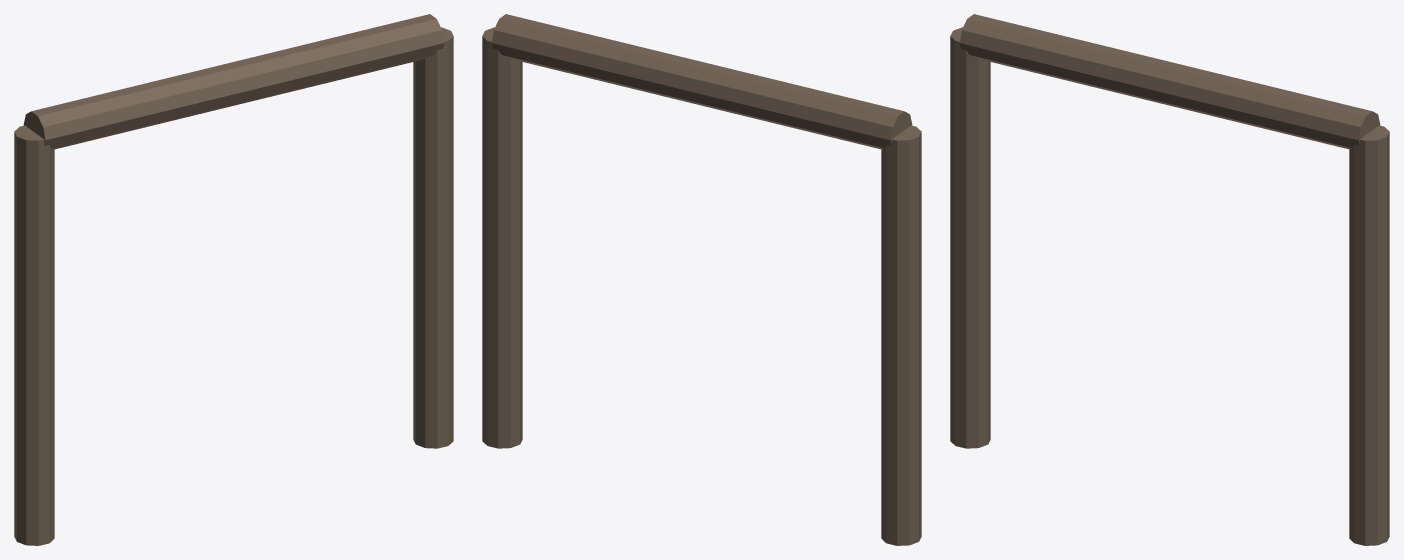
File: exposed_frame_intact.glb
The picture shows the model from 3 angles, left to right: view 1: azimuth 30°, elevation 25°; view 2: azimuth 150°, elevation 25°; view 3: azimuth 330°, elevation 25°; orthographic projection.
Visible parts, largest first — view 1: Body.053; view 2: Body.053; view 3: Body.053.
Part boxes in pixels (x1,y1,x2,y2): Body.053: (14, 14, 453, 545); Body.053: (482, 14, 921, 545); Body.053: (950, 14, 1389, 545).
Size of the model in its own units: 1.85 by 1.73 by 0.16.
